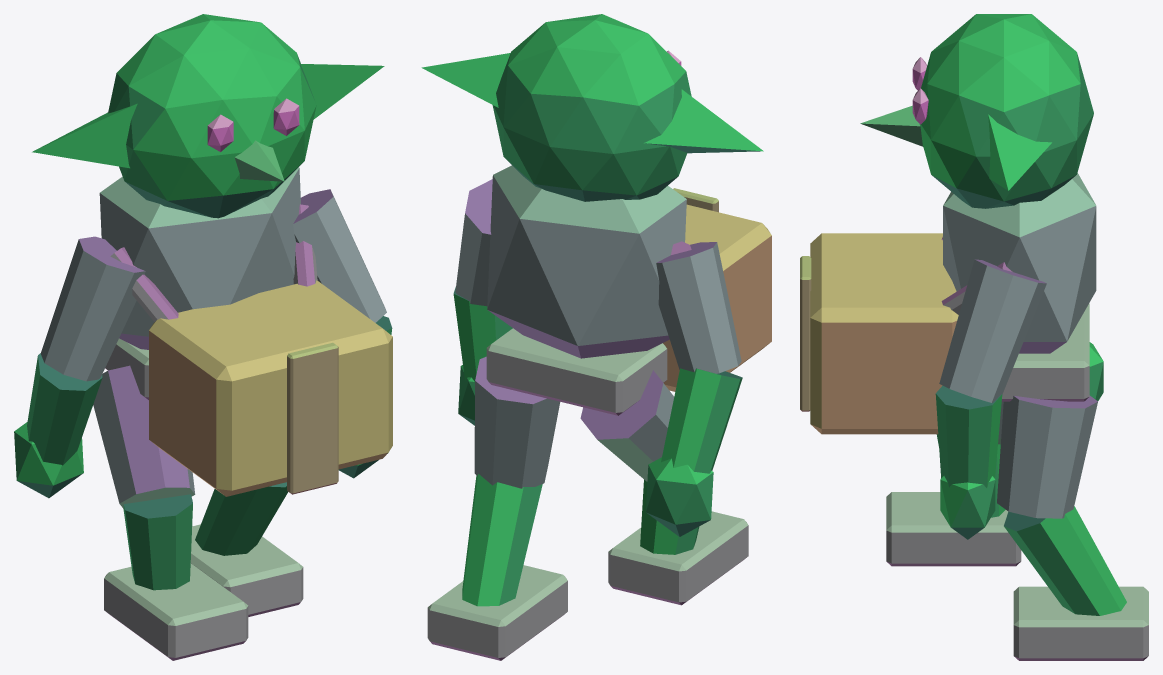
Rendered from creature_goblin_tribute_bearer_down_a_v01.glb.
3 views of the same model, side by side, from view 1: azimuth 30°, elevation 25°; view 2: azimuth 150°, elevation 25°; view 3: azimuth 270°, elevation 25° (orthographic). The views are drawn at different scales.
Visible parts, largest first — view 1: GEO_creature_goblin_tribute_bearer_down_a_v01; view 2: GEO_creature_goblin_tribute_bearer_down_a_v01; view 3: GEO_creature_goblin_tribute_bearer_down_a_v01.
Boxes of the visible parts, x1,y1,x2,y2 form: GEO_creature_goblin_tribute_bearer_down_a_v01: (14, 14, 392, 660); GEO_creature_goblin_tribute_bearer_down_a_v01: (421, 14, 771, 660); GEO_creature_goblin_tribute_bearer_down_a_v01: (800, 14, 1148, 660).
Size of the model in its own units: 0.88 by 1.46 by 0.7739.
